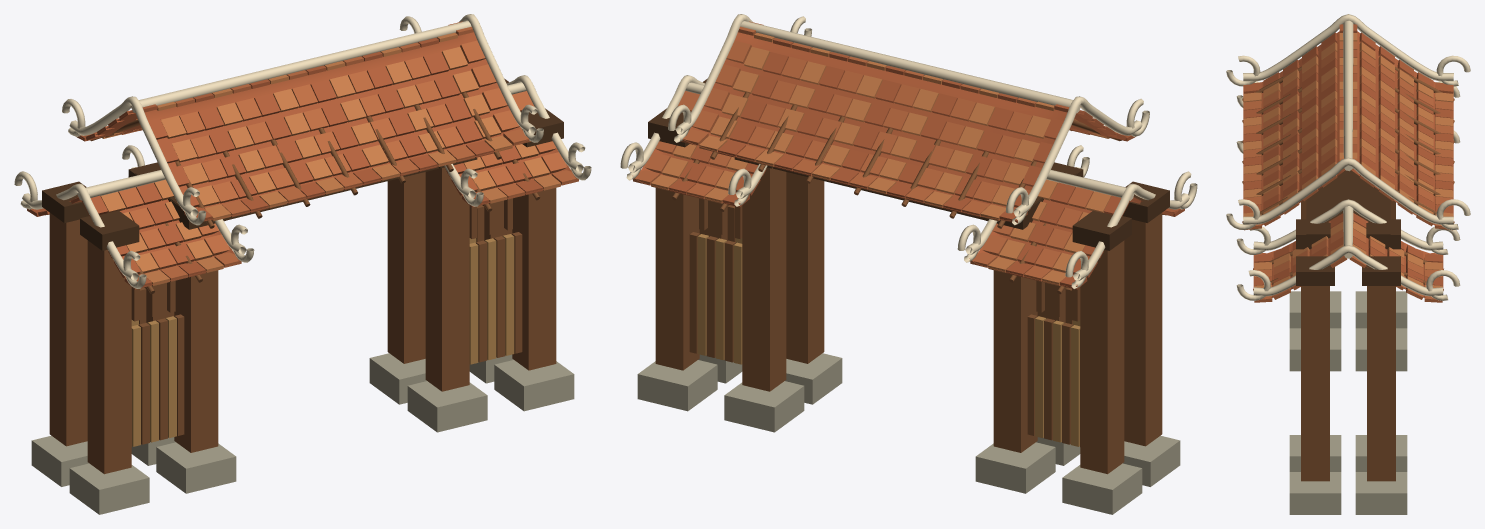
The model's file is LV_CONG_LANG_01.glb.
3 views of the same model, side by side, from view 1: azimuth 30°, elevation 25°; view 2: azimuth 150°, elevation 25°; view 3: azimuth 270°, elevation 25° (orthographic). The views are drawn at different scales.
Visible parts, largest first — view 1: LV_CONG_LANG_01-surface-825331, LV_CONG_LANG_01-surface-af5e39, LV_CONG_LANG_01-surface-a8a28c, LV_CONG_LANG_01-surface-bb6a40, LV_CONG_LANG_01-surface-c57b49, LV_CONG_LANG_01-surface-ead9b8, LV_CONG_LANG_01-surface-b68850, LV_CONG_LANG_01-surface-50351f; view 2: LV_CONG_LANG_01-surface-825331, LV_CONG_LANG_01-surface-af5e39, LV_CONG_LANG_01-surface-a8a28c, LV_CONG_LANG_01-surface-bb6a40, LV_CONG_LANG_01-surface-c57b49, LV_CONG_LANG_01-surface-ead9b8, LV_CONG_LANG_01-surface-b68850, LV_CONG_LANG_01-surface-50351f; view 3: LV_CONG_LANG_01-surface-af5e39, LV_CONG_LANG_01-surface-825331, LV_CONG_LANG_01-surface-ead9b8, LV_CONG_LANG_01-surface-c57b49, LV_CONG_LANG_01-surface-bb6a40, LV_CONG_LANG_01-surface-a8a28c, LV_CONG_LANG_01-surface-50351f.
Boxes of the visible parts, <box> form: LV_CONG_LANG_01-surface-825331: <box>45,92,556,474</box>; LV_CONG_LANG_01-surface-af5e39: <box>27,32,576,289</box>; LV_CONG_LANG_01-surface-a8a28c: <box>31,353,574,514</box>; LV_CONG_LANG_01-surface-bb6a40: <box>118,21,578,281</box>; LV_CONG_LANG_01-surface-c57b49: <box>100,32,560,285</box>; LV_CONG_LANG_01-surface-ead9b8: <box>14,14,591,288</box>; LV_CONG_LANG_01-surface-b68850: <box>131,234,514,446</box>; LV_CONG_LANG_01-surface-50351f: <box>42,78,563,250</box>; LV_CONG_LANG_01-surface-825331: <box>655,92,1166,474</box>; LV_CONG_LANG_01-surface-af5e39: <box>632,32,1184,289</box>; LV_CONG_LANG_01-surface-a8a28c: <box>637,353,1180,514</box>; LV_CONG_LANG_01-surface-bb6a40: <box>633,21,1093,281</box>; LV_CONG_LANG_01-surface-c57b49: <box>651,32,1111,285</box>; LV_CONG_LANG_01-surface-ead9b8: <box>620,14,1197,288</box>; LV_CONG_LANG_01-surface-b68850: <box>697,234,1080,446</box>; LV_CONG_LANG_01-surface-50351f: <box>648,78,1169,250</box>; LV_CONG_LANG_01-surface-af5e39: <box>1243,24,1453,298</box>; LV_CONG_LANG_01-surface-825331: <box>1242,66,1454,481</box>; LV_CONG_LANG_01-surface-ead9b8: <box>1226,14,1470,300</box>; LV_CONG_LANG_01-surface-c57b49: <box>1243,33,1453,287</box>; LV_CONG_LANG_01-surface-bb6a40: <box>1243,41,1453,302</box>; LV_CONG_LANG_01-surface-a8a28c: <box>1289,291,1407,514</box>; LV_CONG_LANG_01-surface-50351f: <box>1296,170,1400,285</box>.
Bounding box in the file's own units: 7.94 × 6.01 × 4.07.
